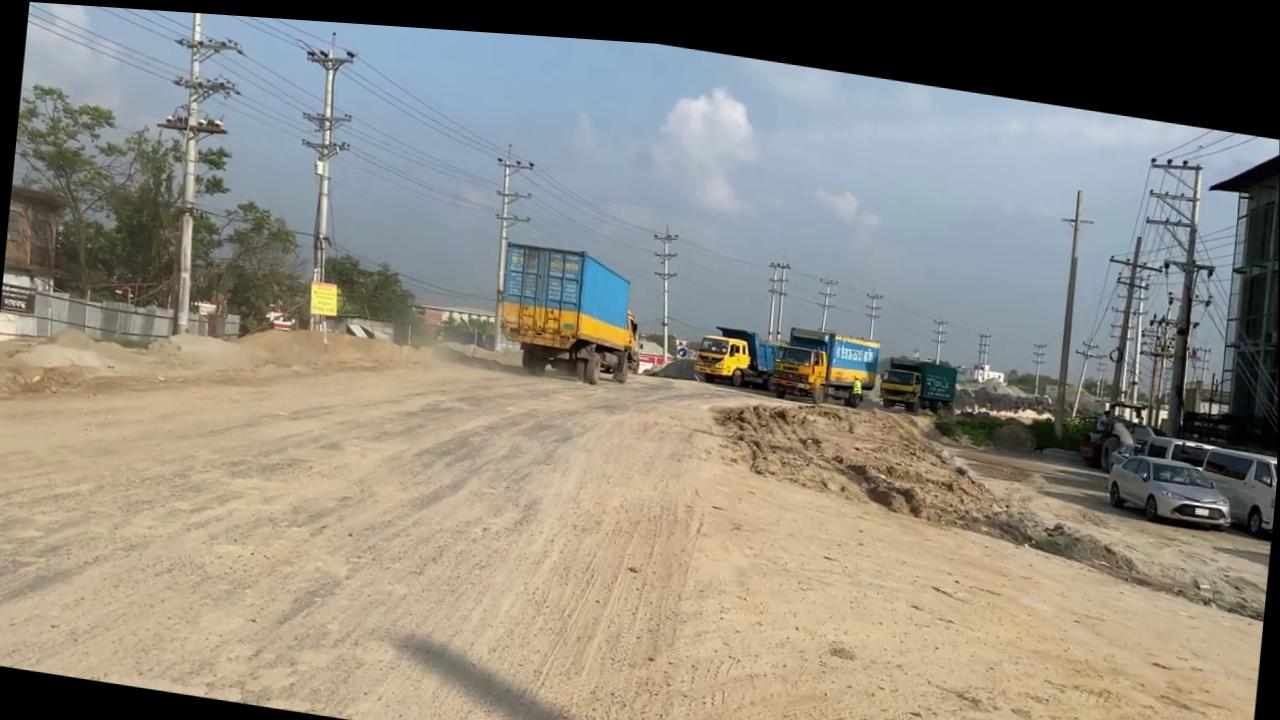Car: (1105, 433, 1236, 516)
Fence: (0, 278, 242, 367)
Muddy road: (702, 366, 974, 531)
Pole: (137, 7, 249, 339), (275, 25, 360, 330), (1124, 136, 1208, 422), (1040, 170, 1096, 425), (1095, 215, 1166, 405), (479, 137, 536, 349), (642, 211, 682, 354)
Traffic-light: (307, 273, 340, 313)
Traffic-sign: (2, 77, 138, 304)
Tree: (491, 229, 644, 381), (768, 311, 882, 401), (1076, 380, 1158, 463), (692, 311, 780, 382), (877, 340, 957, 404), (877, 353, 923, 401), (622, 302, 643, 365)
